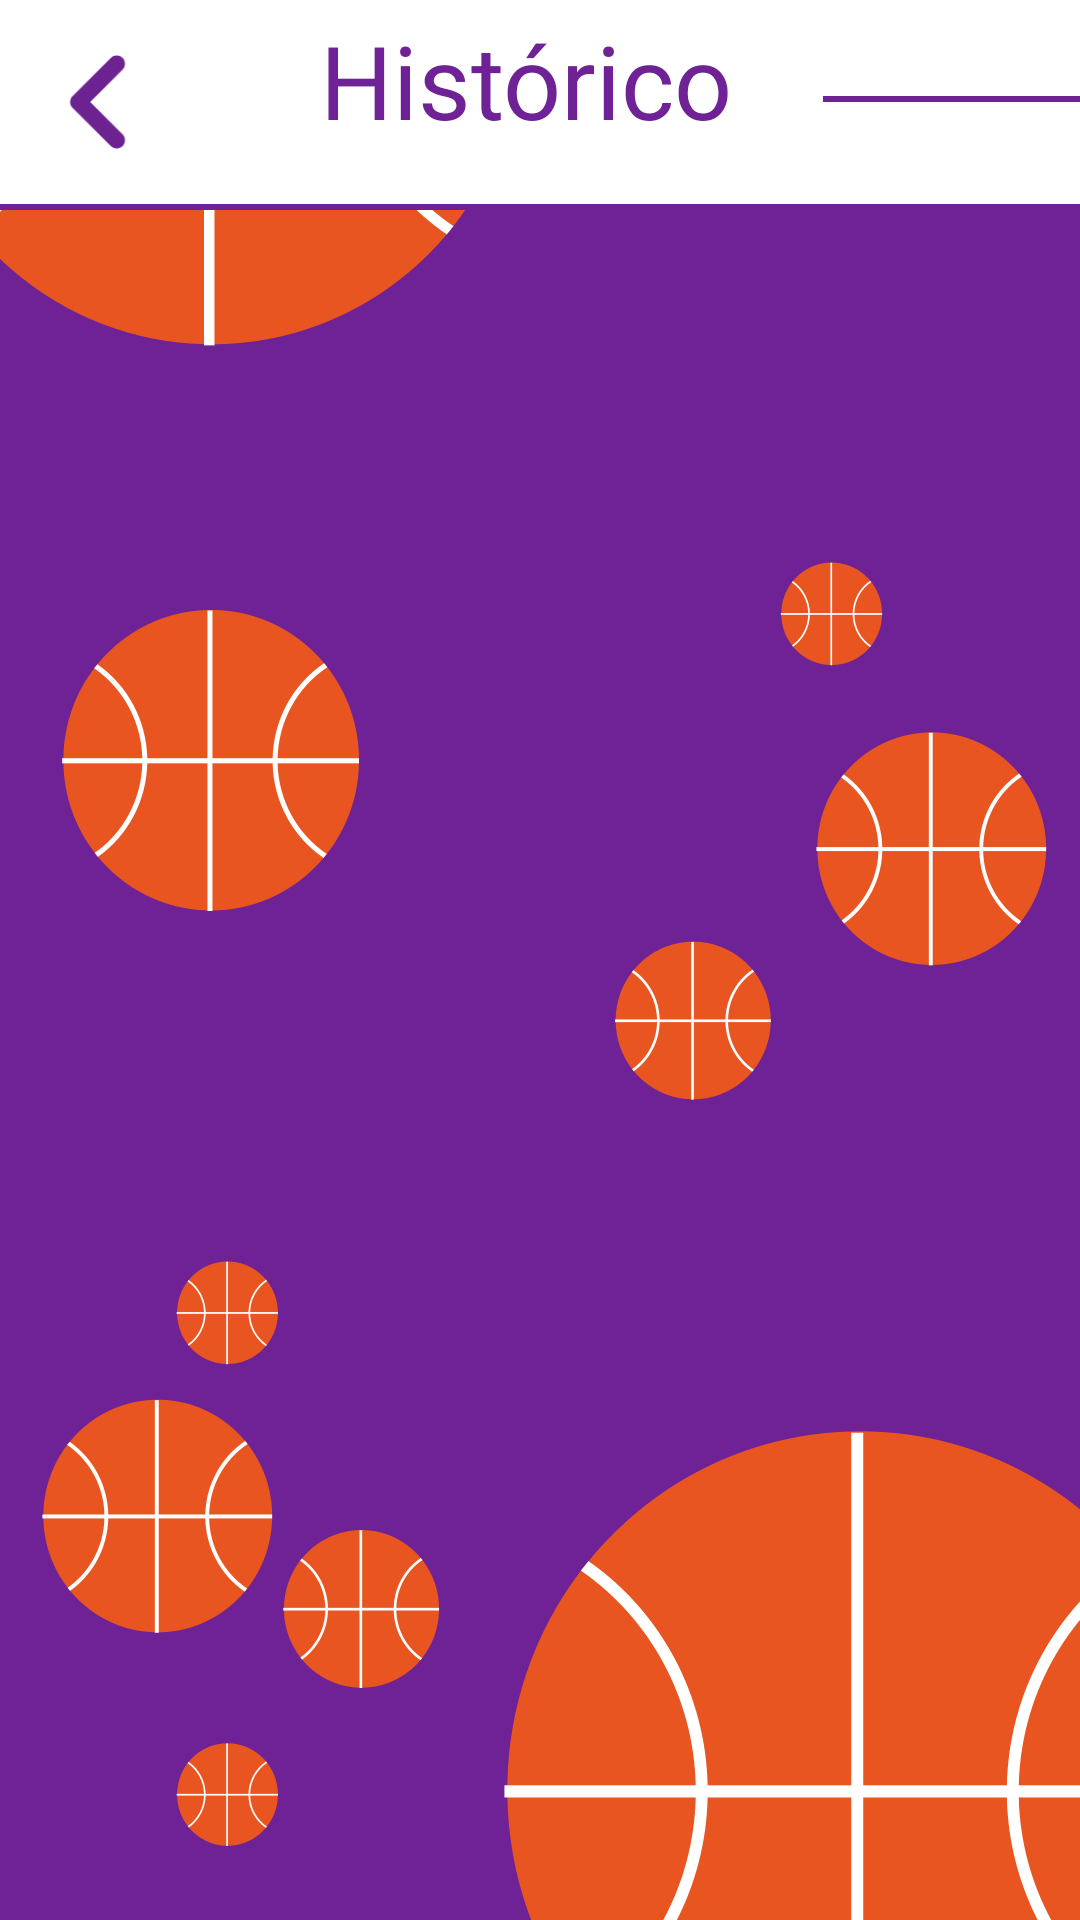

Icons on this 1080 × 1920 Android screen, each with the point to tap as (x=x, y=y):
keyboard arrow left: (x=97, y=102)
